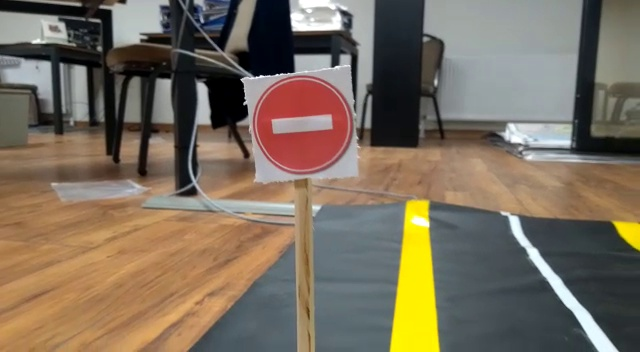girisi_olmayan_yol: (247, 66, 355, 178)
